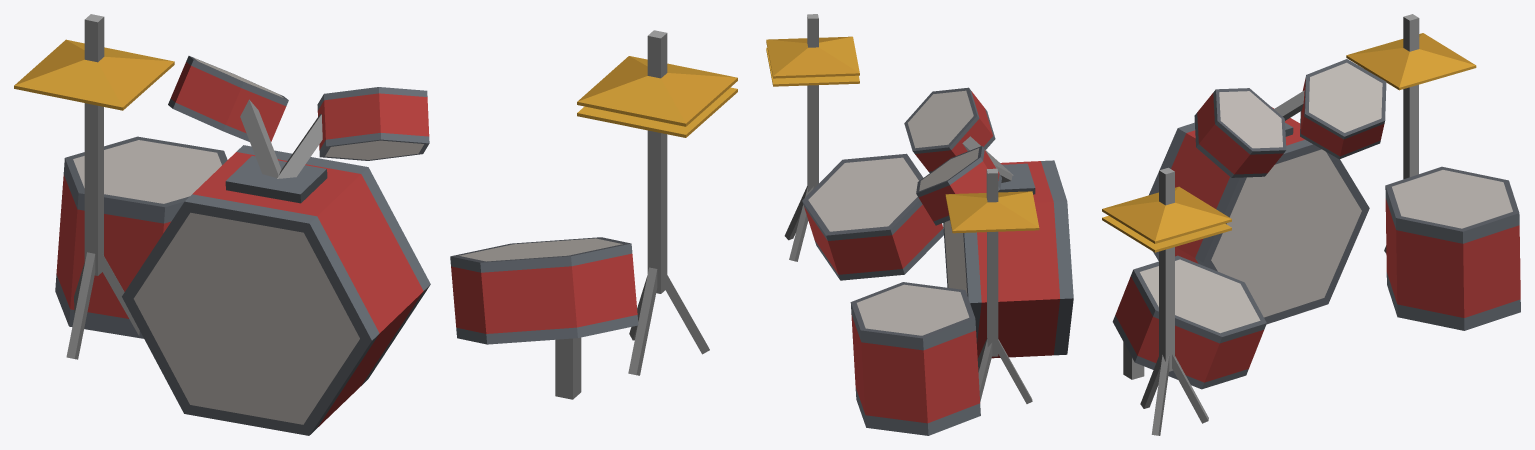
File: Prop_Instrument_DrumKit.obj
3 renders of one model, left to right at view 1: azimuth 30°, elevation 25°; view 2: azimuth 150°, elevation 25°; view 3: azimuth 270°, elevation 25°, orthographic. The views are drawn at different scales.
Parts seen in each view (by area): view 1: Meshessipropinstrumentdrumkit1; view 2: Meshessipropinstrumentdrumkit1; view 3: Meshessipropinstrumentdrumkit1.
Part boxes in pixels (box(x1,y1,x2,y2)): Meshessipropinstrumentdrumkit1: box(14, 14, 737, 435); Meshessipropinstrumentdrumkit1: box(766, 14, 1073, 435); Meshessipropinstrumentdrumkit1: box(1102, 14, 1520, 435).
Bounding box in the file's own units: 8.25 × 4.71 × 7.
Materials: 1 (1 with a texture image).
